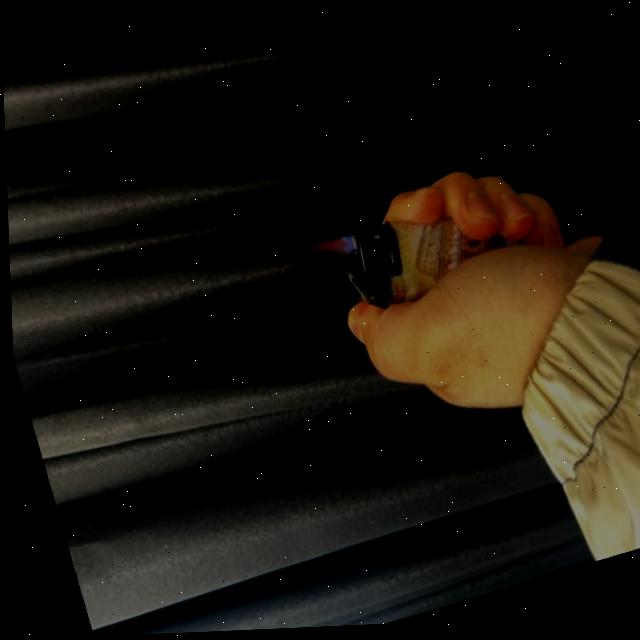Fire: (300, 230, 358, 270)
